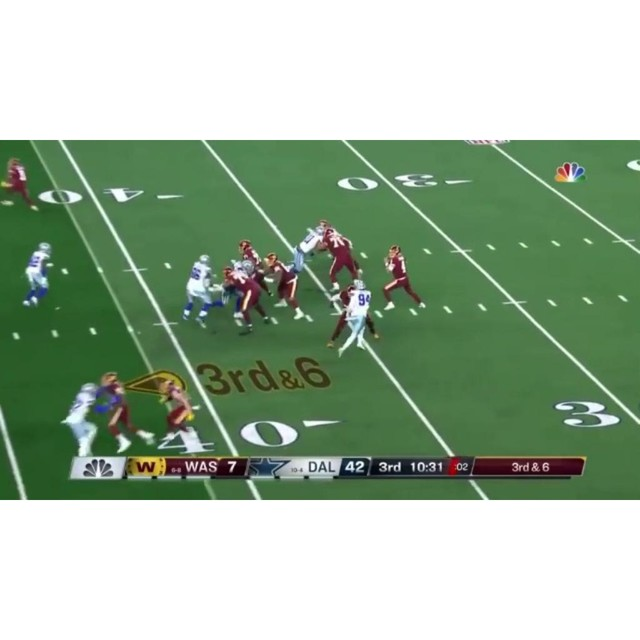american-football-player: (98, 372, 154, 455), (221, 265, 275, 336), (265, 251, 310, 322), (326, 281, 370, 351), (60, 382, 101, 456), (181, 254, 219, 328), (157, 377, 197, 446), (383, 245, 425, 310), (321, 228, 359, 294), (21, 242, 54, 308), (1, 157, 39, 212), (290, 223, 328, 277)
